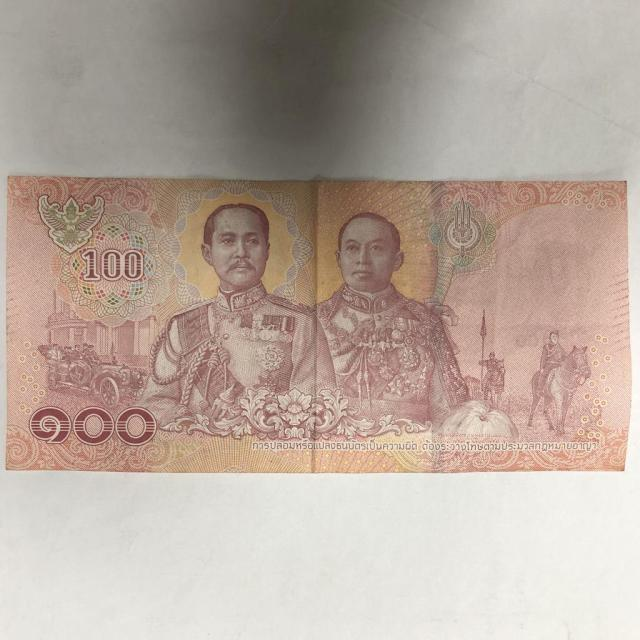THAI100: (0, 174, 632, 476)
